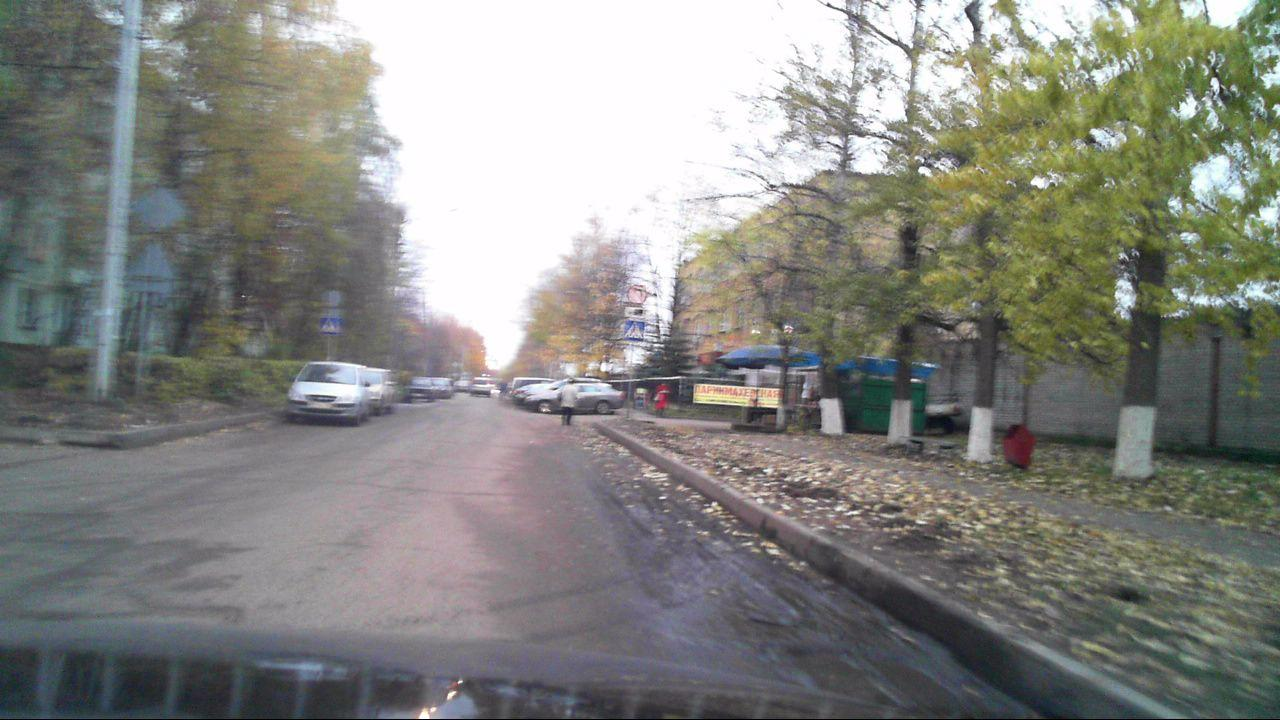3_18_2: (626, 283, 646, 303)
5_19_1: (624, 320, 643, 339)
5_19_2: (320, 317, 340, 336)
8_4_1: (623, 305, 646, 319)
